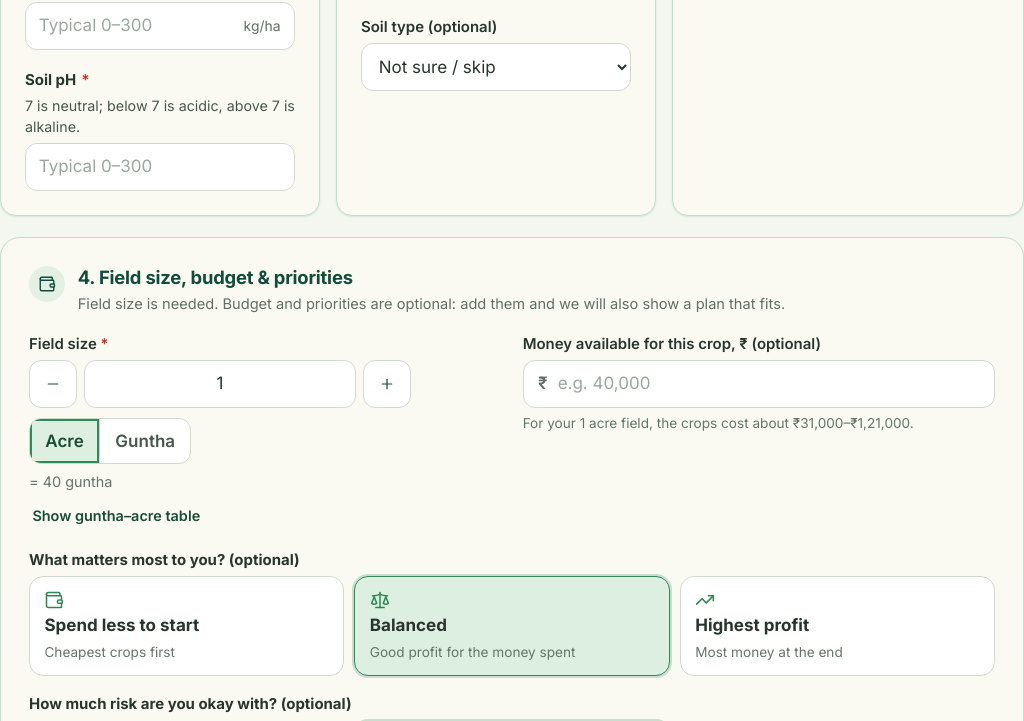
acre and guntha › converts both ways with a live line under the input
(page scrolled)
Expected: the field labelled "Money available for this crop, ₹ (optional)" is shown, x1=523 y1=360 x2=995 y2=408
Replace the text in the field with id "area_acres" with "0.5" at (220, 384), box x1=84 y1=360 x2=356 y2=408
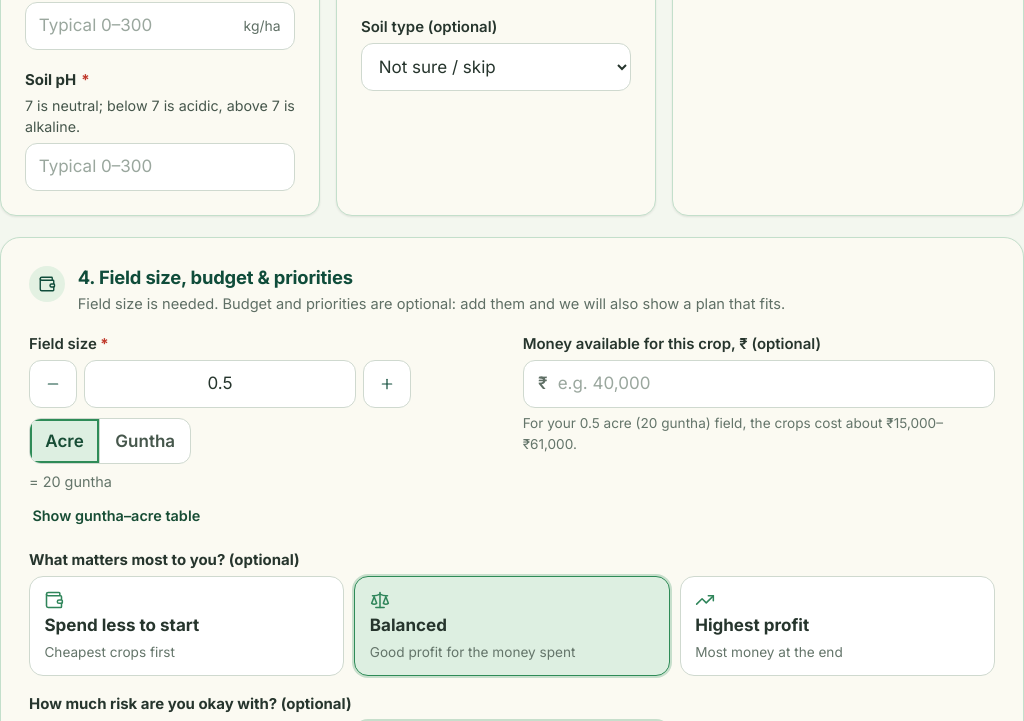
Expected: the text with test id "area-convert" reads "= 20 guntha", x1=29 y1=473 x2=112 y2=490
Click the radio button with test id "unit-guntha" at (145, 441), box x1=99 y1=419 x2=190 y2=463
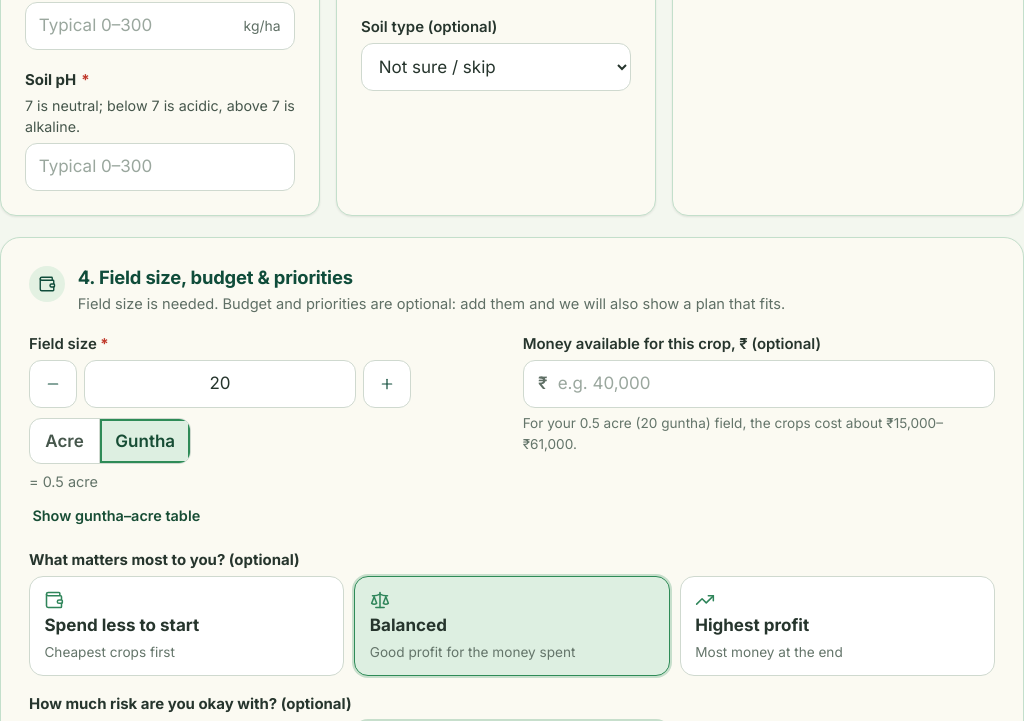
Expected: the field with id "area_acres" holds "20"
Expected: the text with test id "area-convert" reads "= 0.5 acre", x1=29 y1=473 x2=98 y2=490
Replace the text in the field with id "area_acres" with "30" at (220, 384), box x1=84 y1=360 x2=356 y2=408
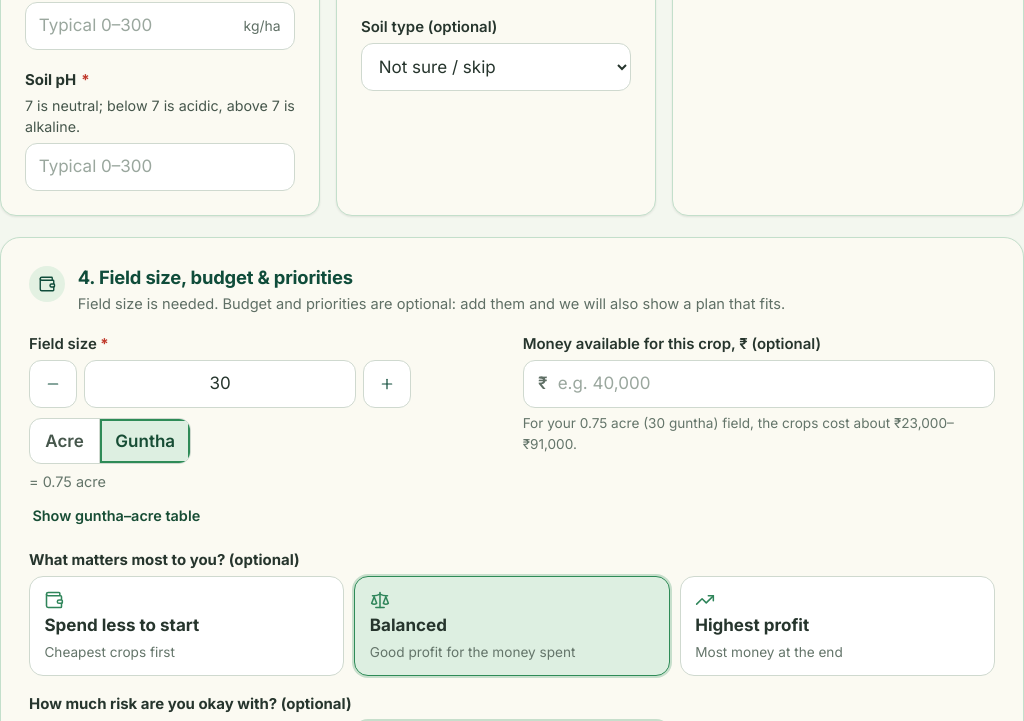
Expected: the text with test id "area-convert" reads "= 0.75 acre", x1=29 y1=473 x2=106 y2=490
Replace the text in the field with id "area_acres" with "1" at (220, 384), box x1=84 y1=360 x2=356 y2=408
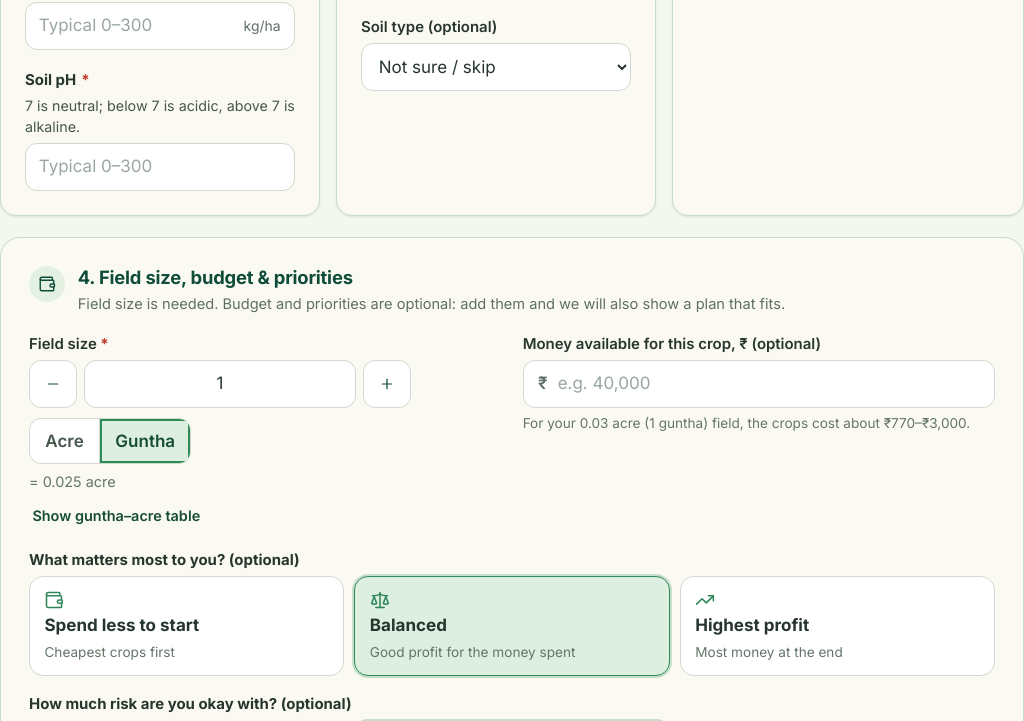
Expected: the text with test id "area-convert" reads "= 0.025 acre", x1=29 y1=473 x2=116 y2=490
Replace the text in the field with id "area_acres" with "100" at (220, 384), box x1=84 y1=360 x2=356 y2=408
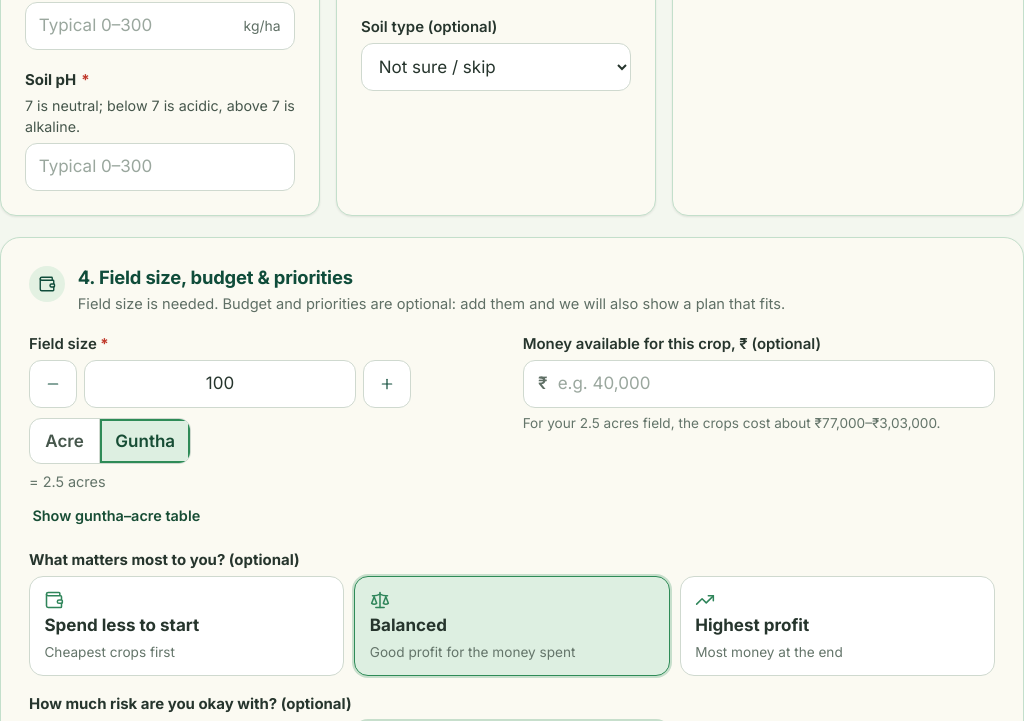
Expected: the text with test id "area-convert" reads "= 2.5 acres", x1=29 y1=473 x2=106 y2=490
Click the radio button with test id "unit-acre" at (64, 441), box x1=30 y1=419 x2=99 y2=463
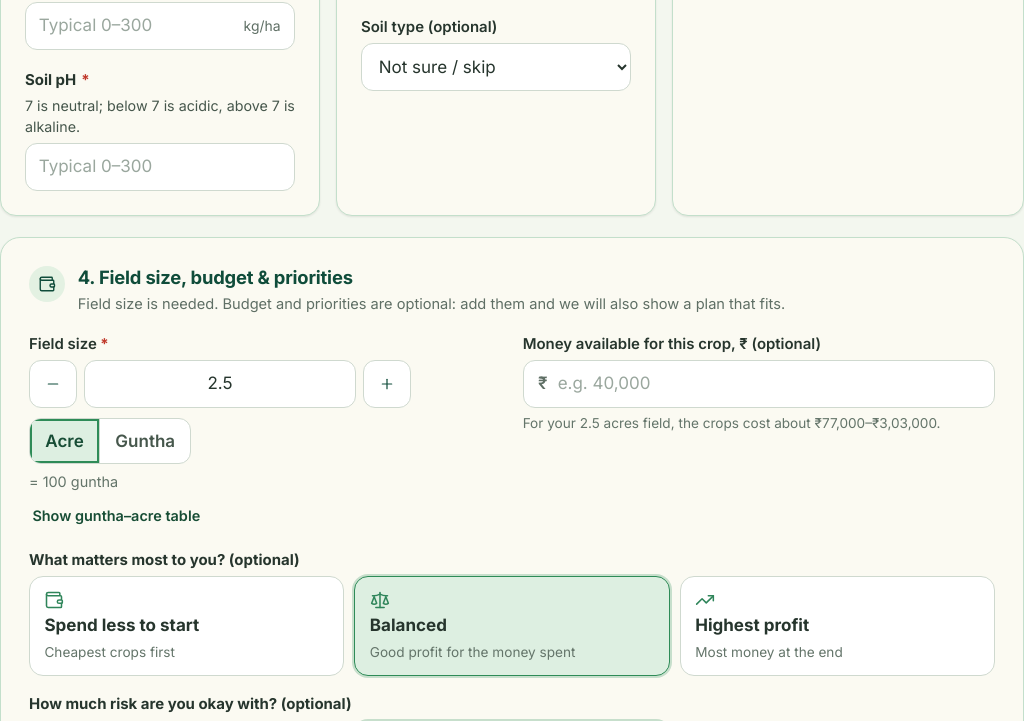
Expected: the field with id "area_acres" holds "2.5", x1=84 y1=360 x2=356 y2=408
Expected: the text with test id "area-convert" reads "= 100 guntha", x1=29 y1=473 x2=118 y2=490
